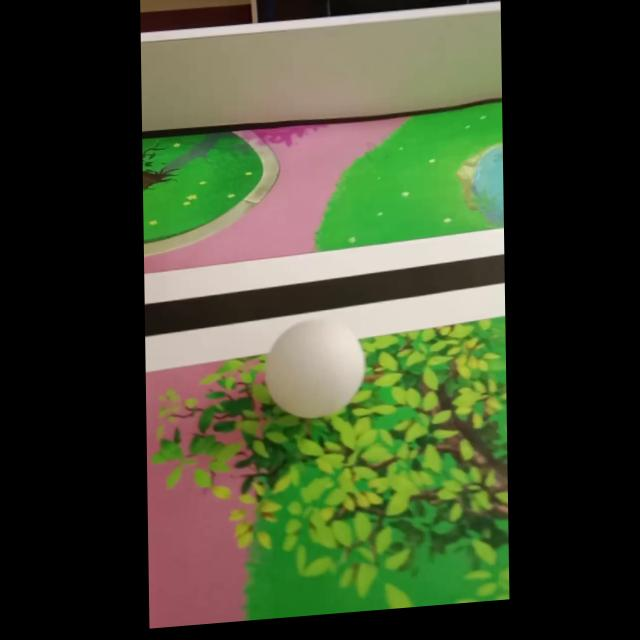white ball: (263, 314, 367, 423)
